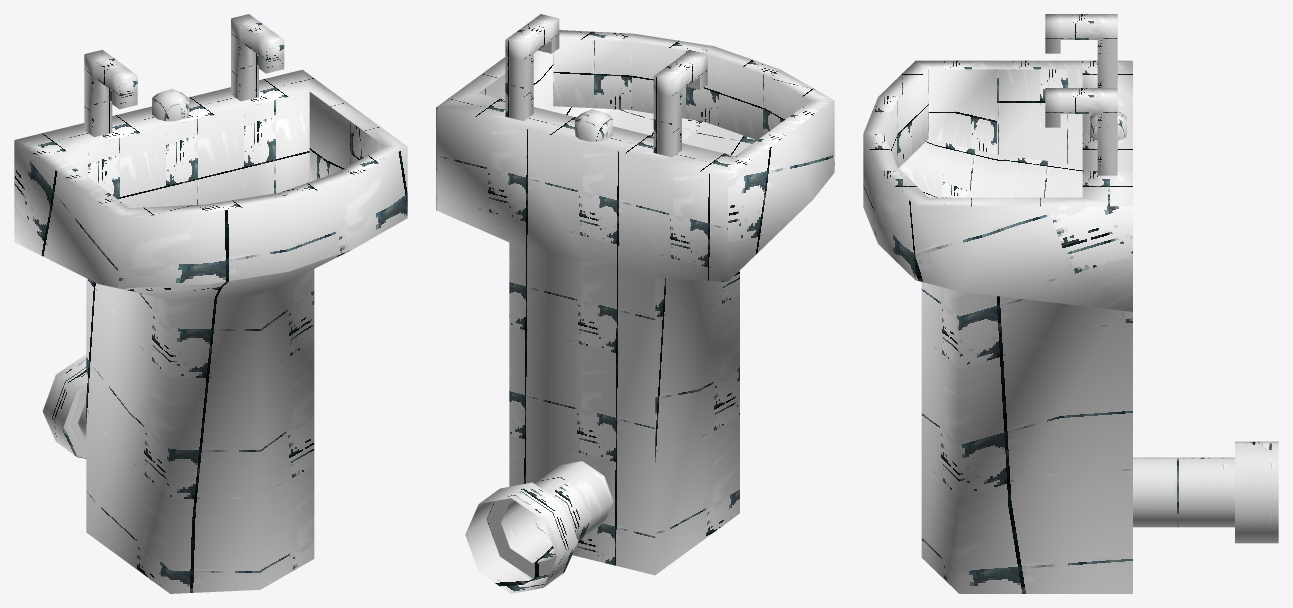
The model's file is SinkBathroom.FBX.
3 views of the same model, side by side, from view 1: azimuth 30°, elevation 25°; view 2: azimuth 150°, elevation 25°; view 3: azimuth 270°, elevation 25° (orthographic). The views are drawn at different scales.
Visible parts, largest first — view 1: SinkBathroom; view 2: SinkBathroom; view 3: SinkBathroom.
Part boxes in pixels (x1,y1,x2,y2): SinkBathroom: (14, 14, 407, 593); SinkBathroom: (436, 14, 834, 593); SinkBathroom: (863, 14, 1278, 593).
Size of the model in its own units: 1.3 by 1.57 by 2.09.
1 material, 1 textured.
